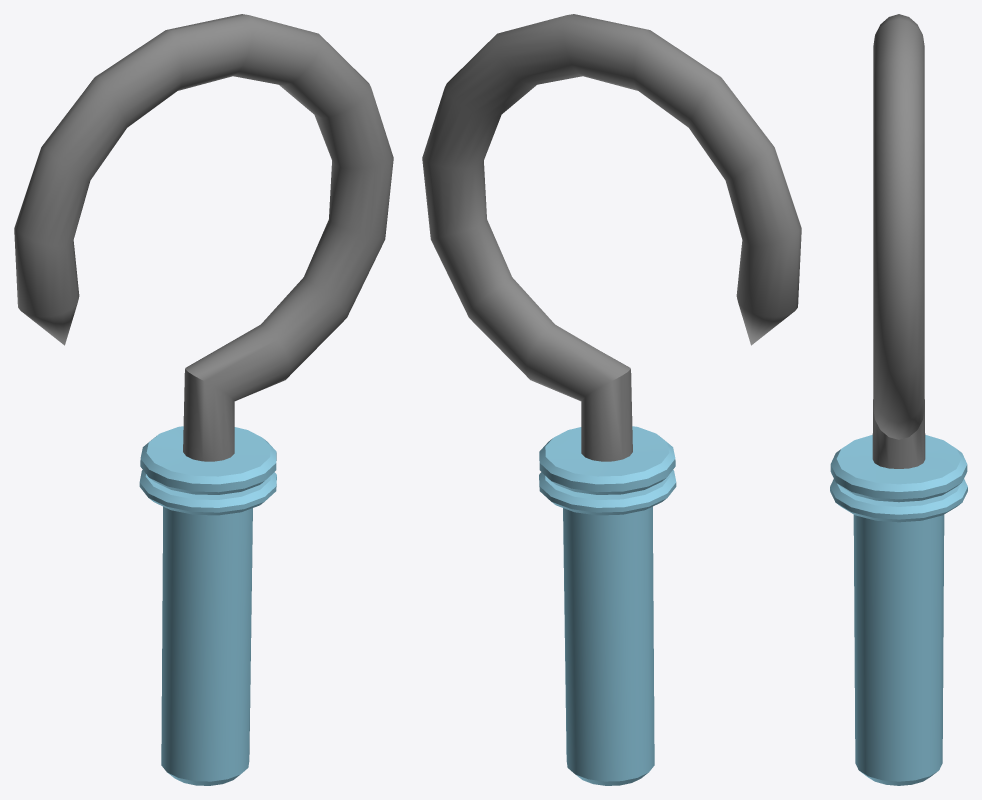
File: foice.fbx
3 views of the same model, side by side, from view 1: azimuth 30°, elevation 25°; view 2: azimuth 150°, elevation 25°; view 3: azimuth 270°, elevation 25° (orthographic).
Visible parts, largest first — view 1: Cylinder; view 2: Cylinder; view 3: Cylinder.
Boxes of the visible parts, x1=… form: Cylinder: x1=14, y1=14, x2=393, y2=785; Cylinder: x1=422, y1=14, x2=801, y2=785; Cylinder: x1=830, y1=14, x2=967, y2=785.
Size of the model in its own units: 159 by 304 by 51.61.
